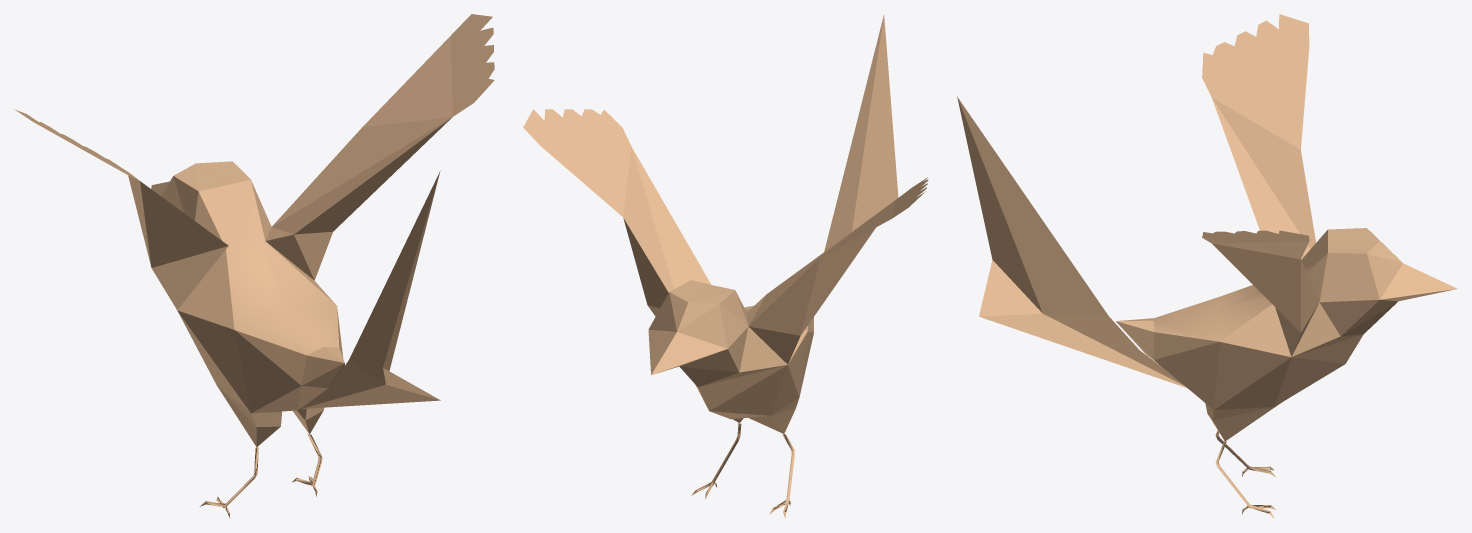
The model's file is PajaroPose00.fbx.
3 renders of one model, left to right at view 1: azimuth 30°, elevation 25°; view 2: azimuth 150°, elevation 25°; view 3: azimuth 270°, elevation 25°, orthographic. The views are drawn at different scales.
Visible parts, largest first — view 1: Plane.001_Body_1_0.001; view 2: Plane.001_Body_1_0.001; view 3: Plane.001_Body_1_0.001.
Boxes of the visible parts, left/top/right/bottom form: Plane.001_Body_1_0.001: left=15, top=14, right=494, bottom=518; Plane.001_Body_1_0.001: left=523, top=15, right=928, bottom=518; Plane.001_Body_1_0.001: left=957, top=14, right=1457, bottom=517.
Bounding box in the file's own units: 6058 × 6359 × 5638.
